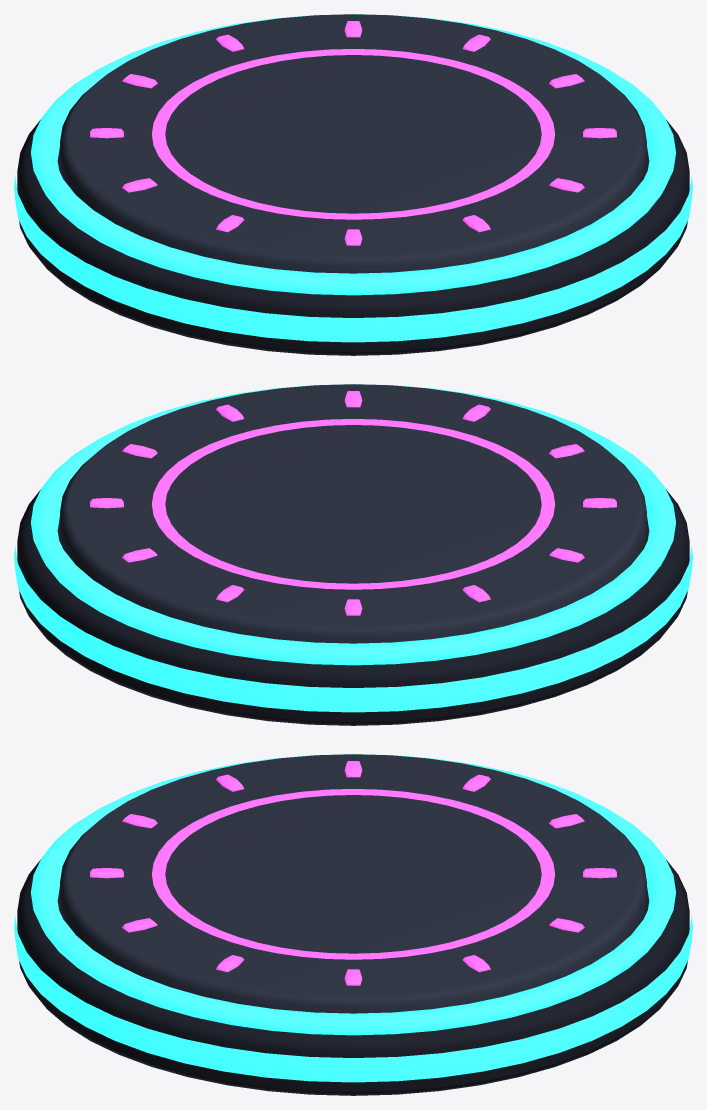
The model's file is portal-pedestal.glb.
The picture shows the model from 3 angles, top to bottom: view 1: azimuth 30°, elevation 25°; view 2: azimuth 150°, elevation 25°; view 3: azimuth 270°, elevation 25°; orthographic projection.
Visible parts, largest first — view 1: top, base, ring_cyan, band_cyan, ring_magenta; view 2: top, base, ring_cyan, band_cyan, ring_magenta; view 3: top, base, ring_cyan, band_cyan, ring_magenta.
Boxes of the visible parts, bbox=[...] form: top: bbox=[60, 14, 646, 273]; base: bbox=[17, 119, 689, 355]; ring_cyan: bbox=[31, 14, 675, 295]; band_cyan: bbox=[14, 175, 692, 342]; ring_magenta: bbox=[151, 49, 555, 219]; top: bbox=[60, 384, 646, 643]; base: bbox=[17, 489, 689, 725]; ring_cyan: bbox=[31, 384, 675, 665]; band_cyan: bbox=[14, 545, 692, 712]; ring_magenta: bbox=[151, 419, 555, 589]; top: bbox=[60, 754, 646, 1013]; base: bbox=[17, 859, 689, 1095]; ring_cyan: bbox=[31, 754, 675, 1035]; band_cyan: bbox=[14, 915, 692, 1082]; ring_magenta: bbox=[151, 789, 555, 959].
Size of the model in its own units: 0.303 by 0.042 by 0.303.
